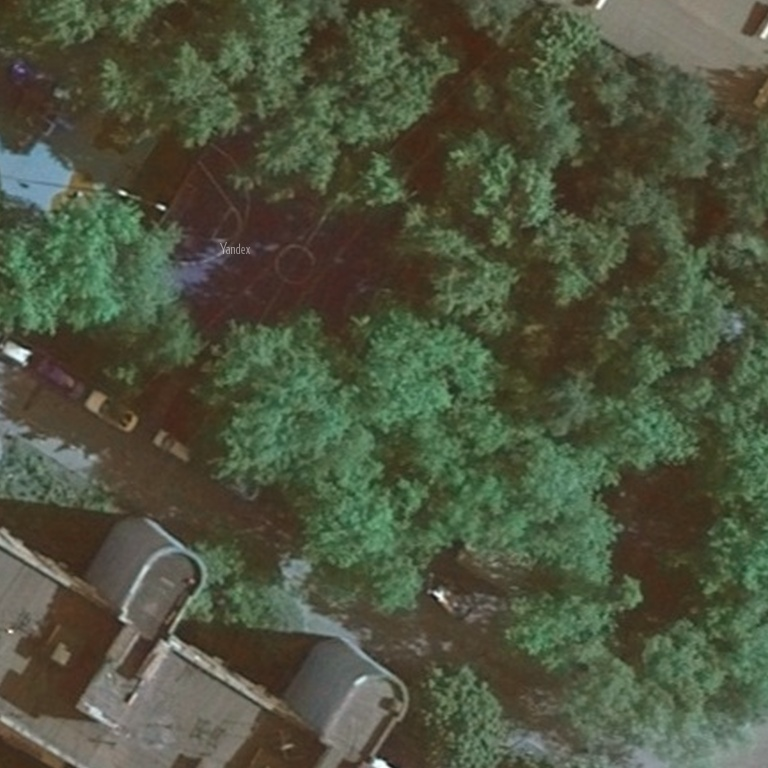basket_court: (122, 124, 451, 422)
